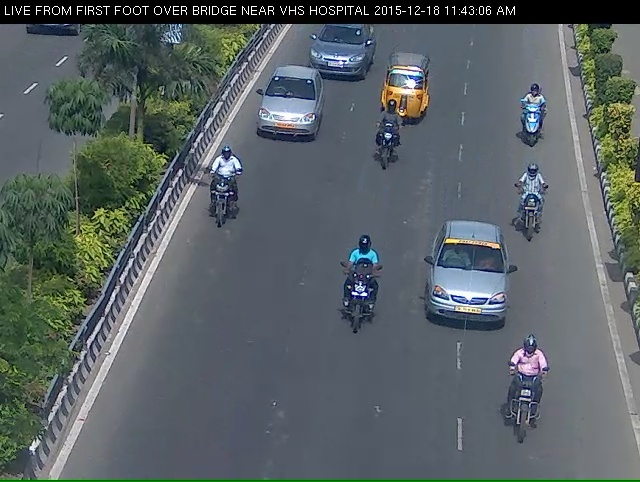Auto: (371, 57, 442, 127)
Car: (420, 247, 524, 352), (255, 79, 319, 162), (304, 28, 370, 82)
Person: (496, 373, 554, 475), (332, 268, 385, 358), (199, 175, 237, 252), (510, 184, 549, 253), (516, 96, 554, 159), (371, 118, 397, 183)
